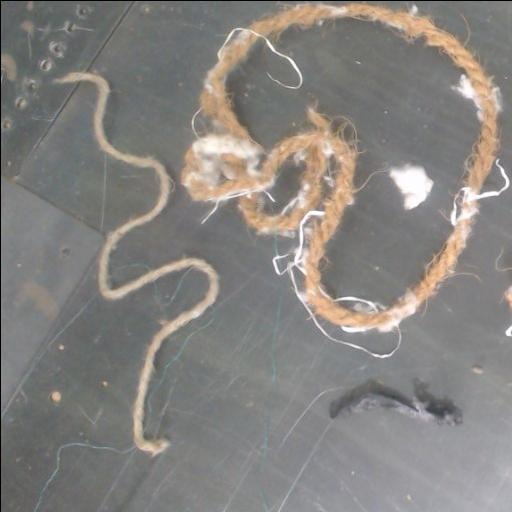cloth: (329, 382, 460, 424)
conveyor belt: (1, 172, 512, 512), (228, 23, 475, 301), (95, 3, 260, 160)
jute: (63, 73, 217, 453), (215, 3, 496, 191), (304, 160, 469, 329), (182, 114, 336, 233)
